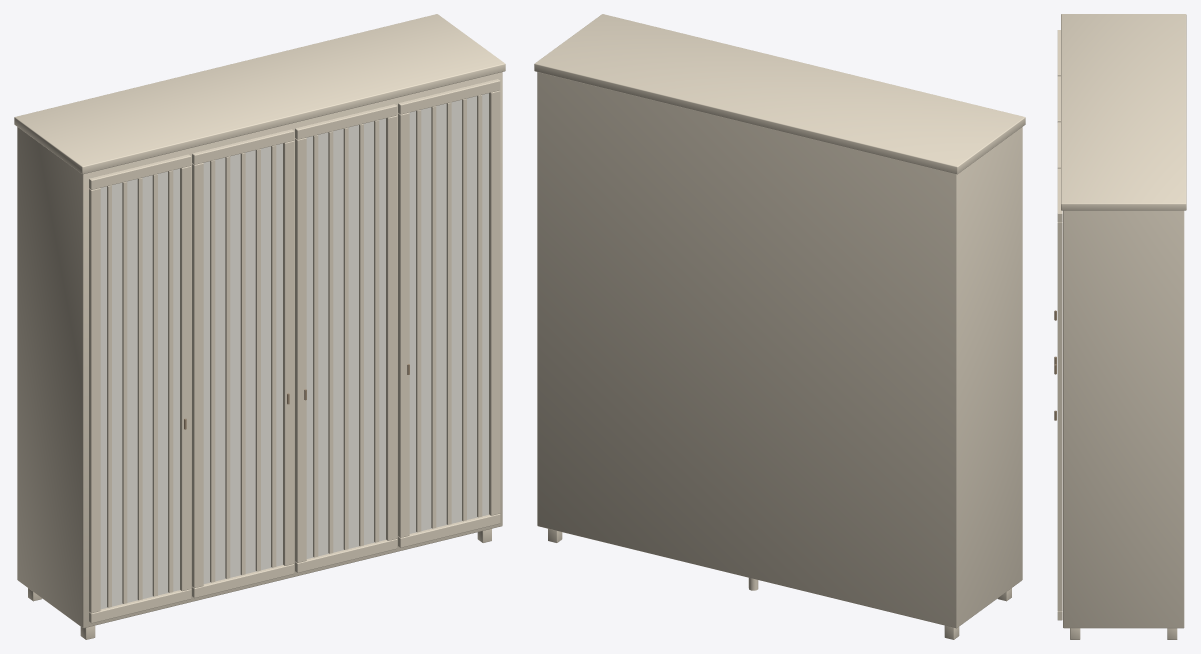
The model's file is sg_wardrobe_wide.glb.
3 renders of one model, left to right at view 1: azimuth 30°, elevation 25°; view 2: azimuth 150°, elevation 25°; view 3: azimuth 270°, elevation 25°, orthographic. The views are drawn at different scales.
Visible parts, largest first — view 1: body, top, door0_p, door1_p, door2_p, door3_p, door1_s, door2_f, door0_f, door1_f, door3_f, door3_s (+2 smaller); view 2: body, top; view 3: body, top, door3_f.
Part boxes in pixels (x1,y1,x2,y2): body: [17, 72, 502, 628]; top: [14, 14, 505, 174]; door0_p: [100, 168, 179, 609]; door1_p: [203, 143, 282, 583]; door2_p: [306, 118, 385, 558]; door3_p: [409, 93, 488, 533]; door1_s: [210, 145, 276, 582]; door2_f: [295, 104, 397, 572]; door0_f: [89, 154, 191, 623]; door1_f: [192, 129, 294, 598]; door3_f: [398, 79, 500, 547]; door3_s: [416, 95, 482, 532]; body: [537, 72, 1022, 628]; top: [534, 14, 1025, 174]; body: [1063, 210, 1184, 628]; top: [1061, 14, 1186, 210]; door3_f: [1057, 168, 1062, 620].
Size of the model in its own units: 2.22 by 2.4 by 0.652.
